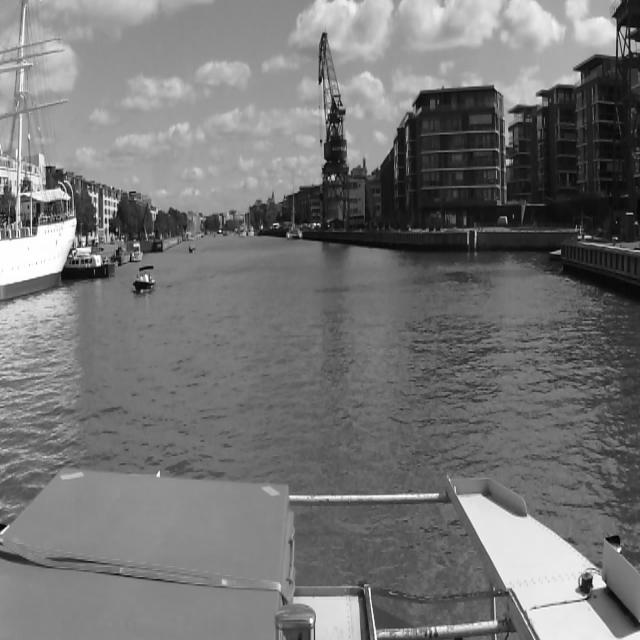ship: (0, 0, 77, 303), (65, 247, 115, 279), (288, 173, 302, 240), (133, 266, 155, 292), (131, 242, 143, 262), (248, 224, 254, 236), (240, 227, 246, 237), (189, 245, 196, 252)
